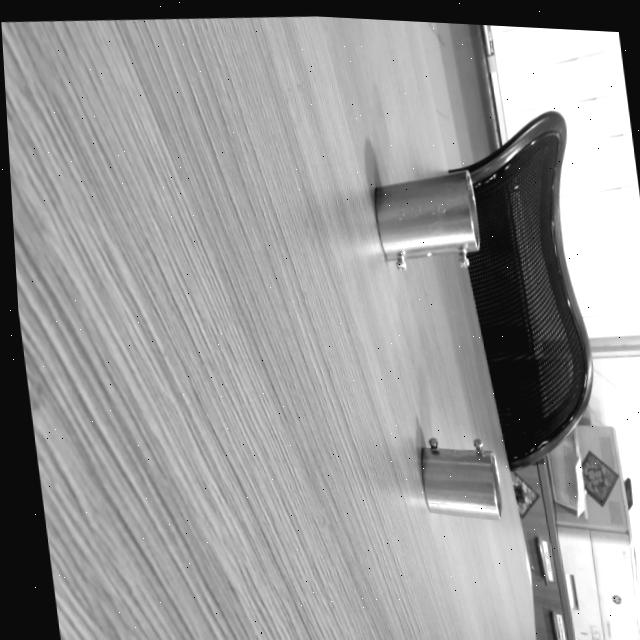Co_Lon: (369, 168, 485, 283)
Co_Nho: (419, 438, 502, 519)
